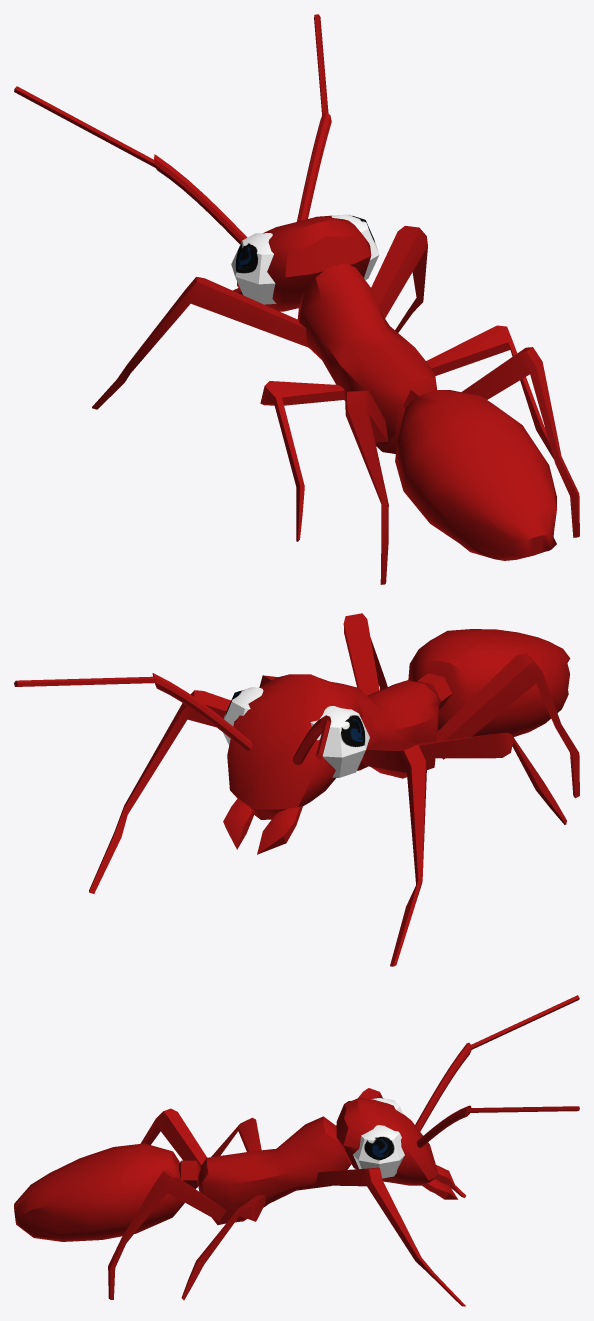
The model's file is newRedAnt.fbx.
The picture shows the model from 3 angles, top to bottom: view 1: azimuth 30°, elevation 25°; view 2: azimuth 150°, elevation 25°; view 3: azimuth 270°, elevation 25°; orthographic projection. The views are drawn at different scales.
Parts seen in each view (by area): view 1: antBody, eye; view 2: antBody, eye, eye_2; view 3: antBody, eye_2.
Boxes of the visible parts, bbox=[...] form: antBody: bbox=[14, 14, 579, 584]; eye: bbox=[231, 233, 276, 304]; antBody: bbox=[14, 613, 579, 966]; eye: bbox=[310, 706, 369, 777]; eye_2: bbox=[223, 687, 263, 745]; antBody: bbox=[14, 995, 579, 1306]; eye_2: bbox=[353, 1125, 404, 1178].
Bounding box in the file's own units: 30.61 × 27.08 × 65.07.
3 materials, 2 textured.
